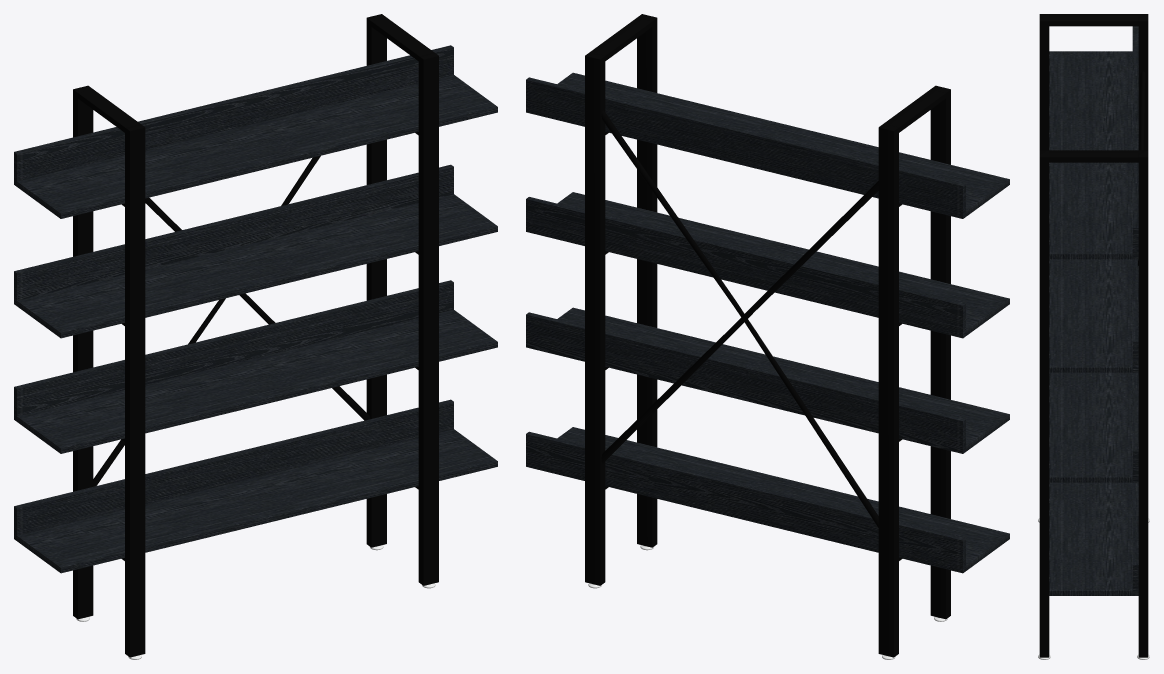
The model's file is MEGA_PACK_Shelf__shelf-395523_frame_black.glb.
3 views of the same model, side by side, from view 1: azimuth 30°, elevation 25°; view 2: azimuth 150°, elevation 25°; view 3: azimuth 270°, elevation 25° (orthographic). The views are drawn at different scales.
Parts seen in each view (by area): view 1: shelf-395523_frame_black; view 2: shelf-395523_frame_black; view 3: shelf-395523_frame_black.
Boxes of the visible parts, left/top/right/bottom form: shelf-395523_frame_black: left=14, top=14, right=497, bottom=659; shelf-395523_frame_black: left=526, top=14, right=1009, bottom=659; shelf-395523_frame_black: left=1038, top=14, right=1149, bottom=659.
Bounding box in the file's own units: 1.2 × 1.39 × 0.28.
Materials: 1 (1 with a texture image).
